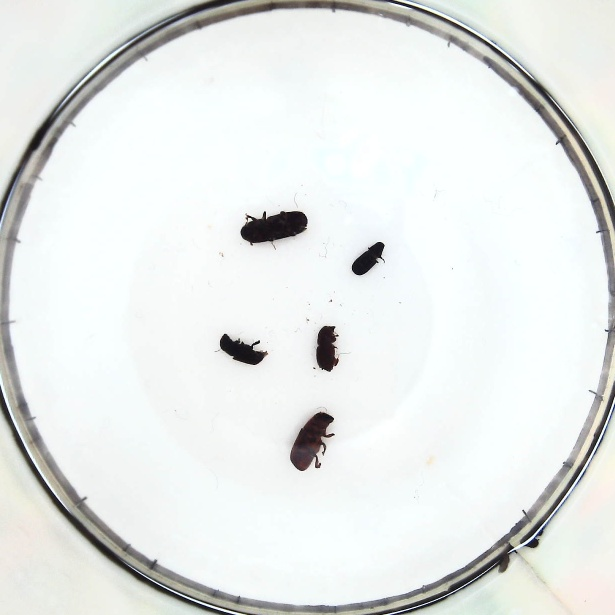armandi: (217, 332, 267, 366)
boerner: (239, 210, 308, 245)
coleoptera: (349, 241, 386, 275)
leconte: (290, 413, 332, 471)
linnaeus: (314, 323, 340, 373)
